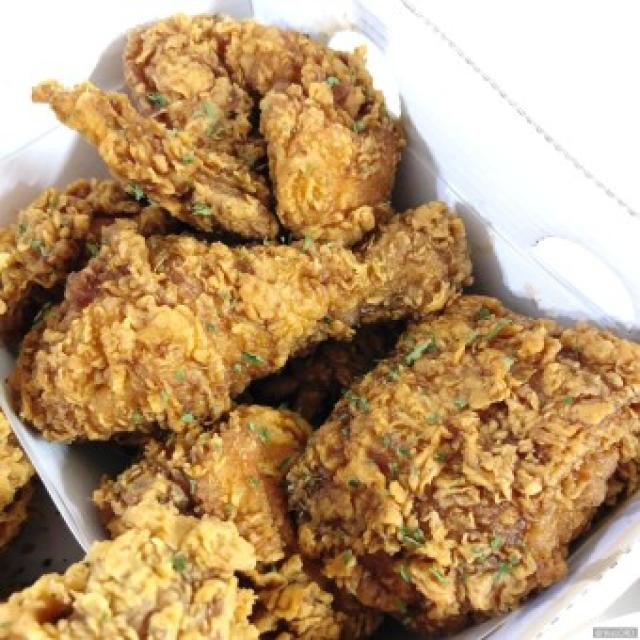Frango: (2, 11, 640, 634)
